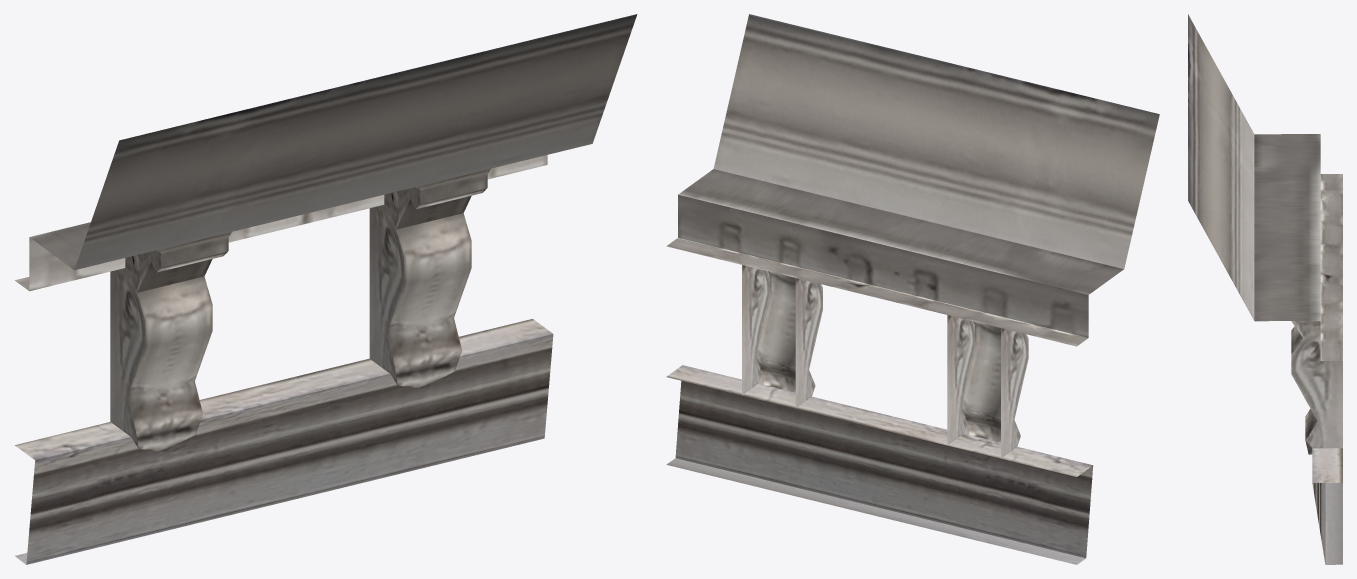
Rendered from WallRoofline05A.fbx.
The picture shows the model from 3 angles, left to right: view 1: azimuth 30°, elevation 25°; view 2: azimuth 150°, elevation 25°; view 3: azimuth 270°, elevation 25°; orthographic projection. The views are drawn at different scales.
Parts seen in each view (by area): view 1: WallRoofline05A; view 2: WallRoofline05A; view 3: WallRoofline05A.
Boxes of the visible parts, x1,y1,x2,y2 form: WallRoofline05A: (15,14,637,564); WallRoofline05A: (666,14,1159,564); WallRoofline05A: (1188,14,1342,564).
Size of the model in its own units: 100 by 90.8 by 35.
